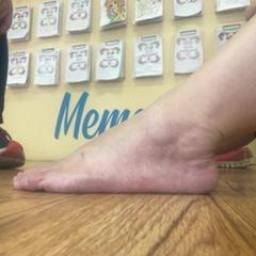Lateral View -Left Foot-: (5, 88, 240, 214)
